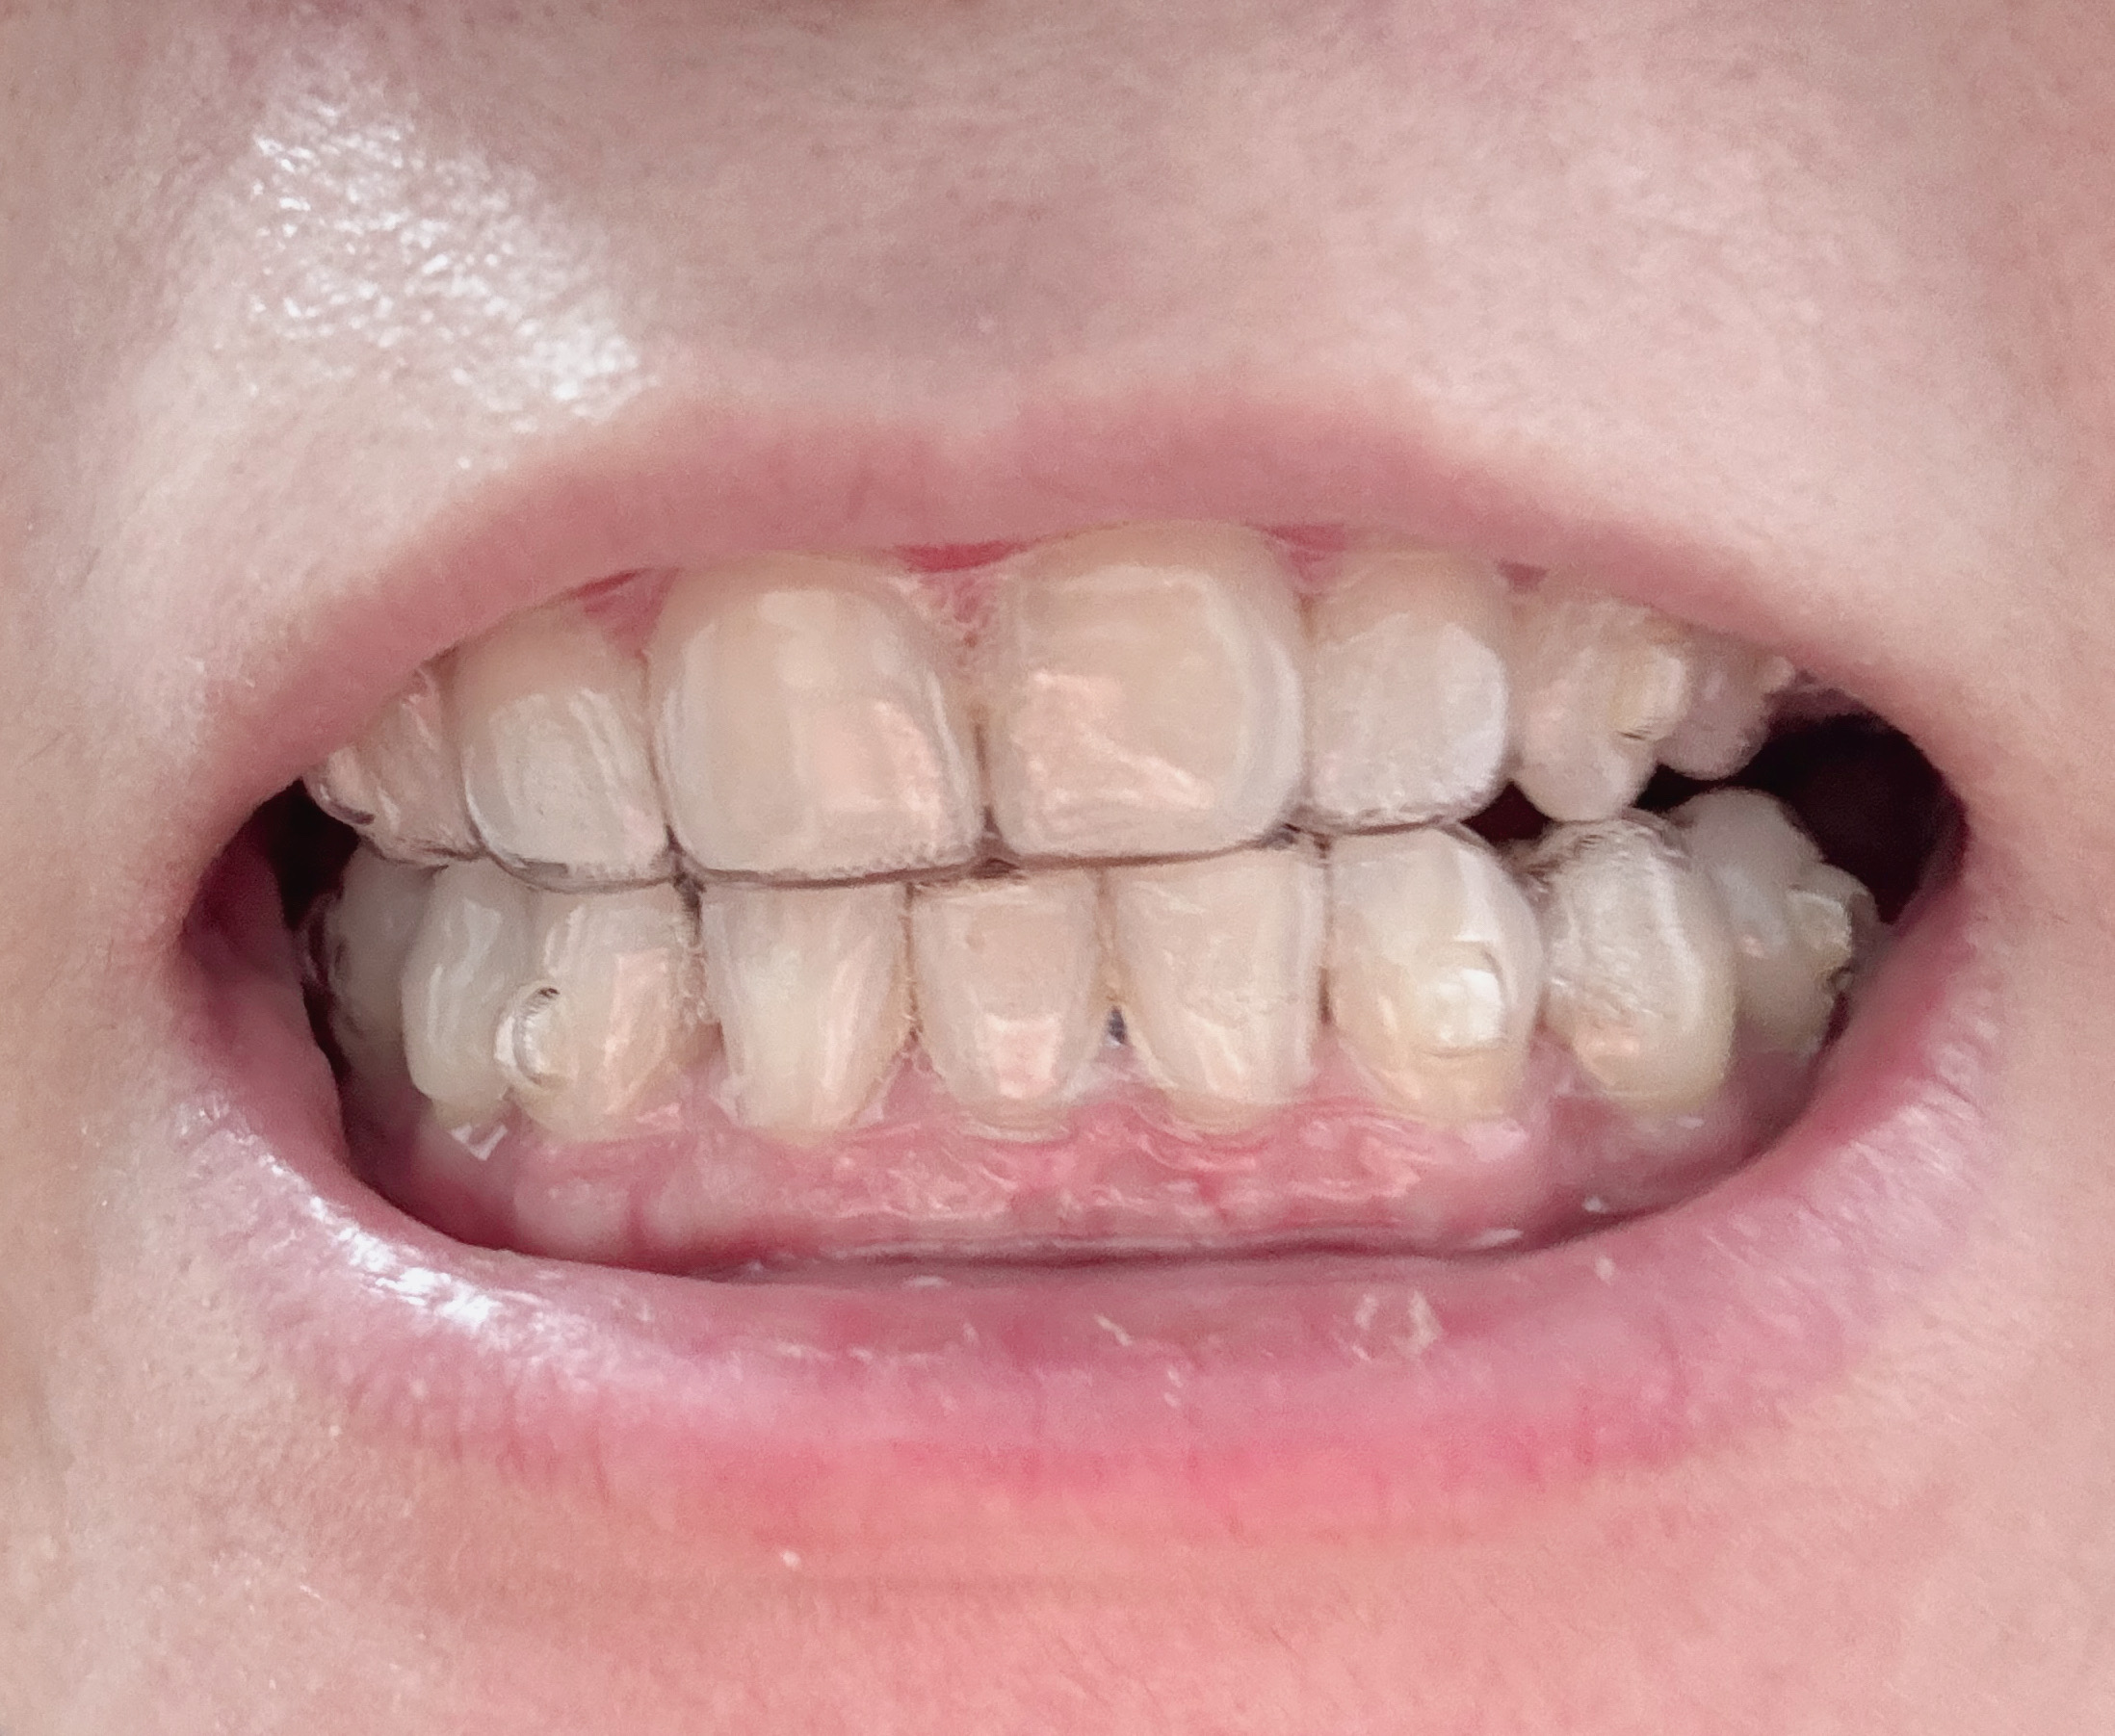teeth: (652, 569, 973, 853), (998, 556, 1289, 839), (1122, 855, 1323, 1122), (448, 614, 657, 865), (1316, 565, 1521, 795), (713, 885, 899, 1137), (1356, 848, 1534, 1104), (1555, 850, 1720, 1116), (1502, 572, 1664, 809), (919, 883, 1087, 1109), (539, 895, 675, 1120)
